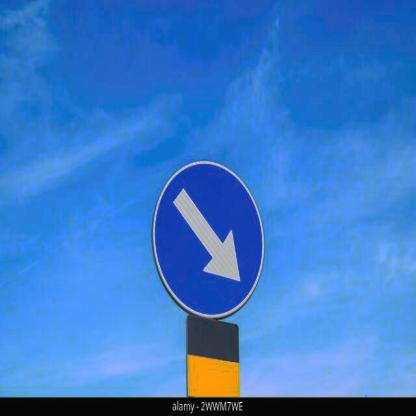Keep right: (152, 154, 268, 326)
